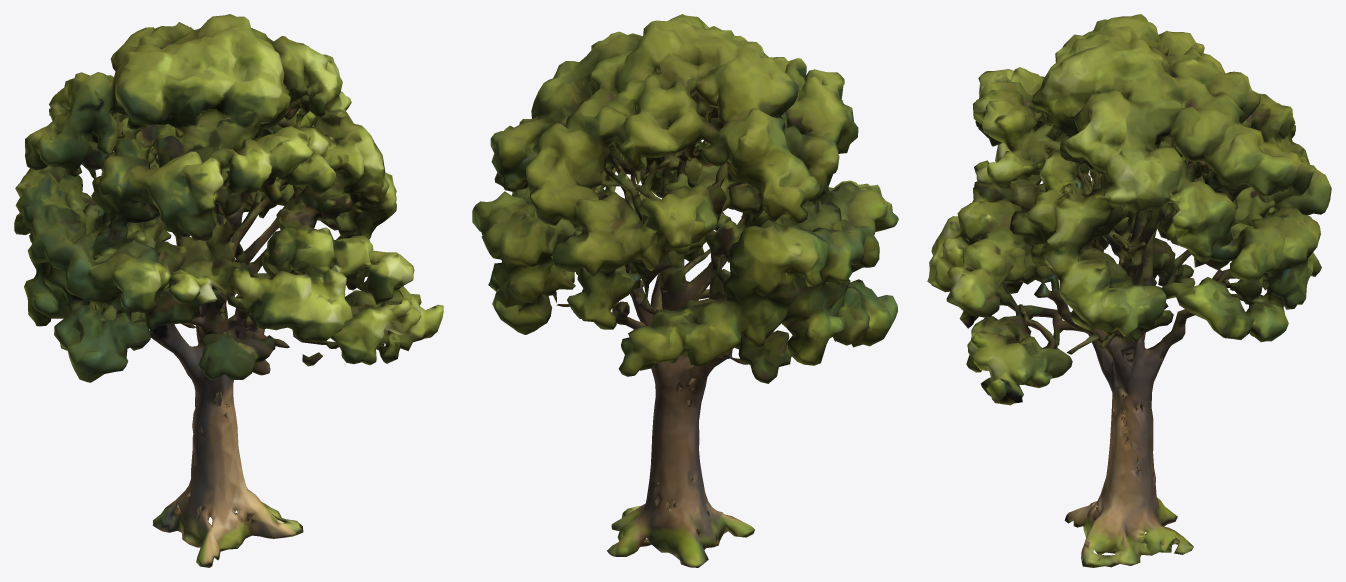
The model's file is AI_WideOakTree.fbx.
The picture shows the model from 3 angles, left to right: view 1: azimuth 30°, elevation 25°; view 2: azimuth 150°, elevation 25°; view 3: azimuth 270°, elevation 25°; orthographic projection. The views are drawn at different scales.
Visible parts, largest first — view 1: Mesh_0; view 2: Mesh_0; view 3: Mesh_0.
Boxes of the visible parts, bbox=[...] form: Mesh_0: bbox=[14, 14, 443, 567]; Mesh_0: bbox=[472, 14, 898, 567]; Mesh_0: bbox=[927, 14, 1331, 567].
Size of the model in its own units: 142 by 201 by 146.
Materials: 1 (1 with a texture image).
